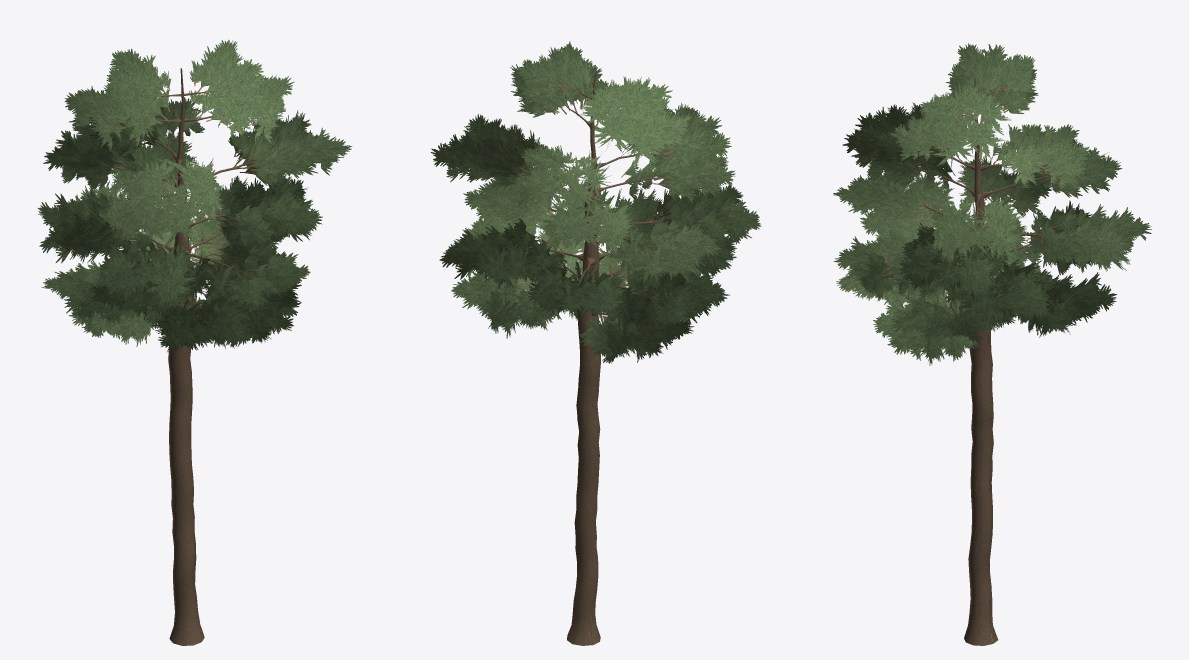
The model's file is Scenery_Pine_V2.fbx.
3 views of the same model, side by side, from view 1: azimuth 30°, elevation 25°; view 2: azimuth 150°, elevation 25°; view 3: azimuth 270°, elevation 25° (orthographic). The views are drawn at different scales.
Visible parts, largest first — view 1: Scenery_Pine_V2_LOD0; view 2: Scenery_Pine_V2_LOD0; view 3: Scenery_Pine_V2_LOD0.
Part boxes in pixels (x1=…): Scenery_Pine_V2_LOD0: x1=38, y1=40, x2=352, y2=645; Scenery_Pine_V2_LOD0: x1=430, y1=41, x2=761, y2=645; Scenery_Pine_V2_LOD0: x1=833, y1=43, x2=1151, y2=645.
Size of what is drawn, in the model's own units: 10.15 by 18.31 by 10.12.
